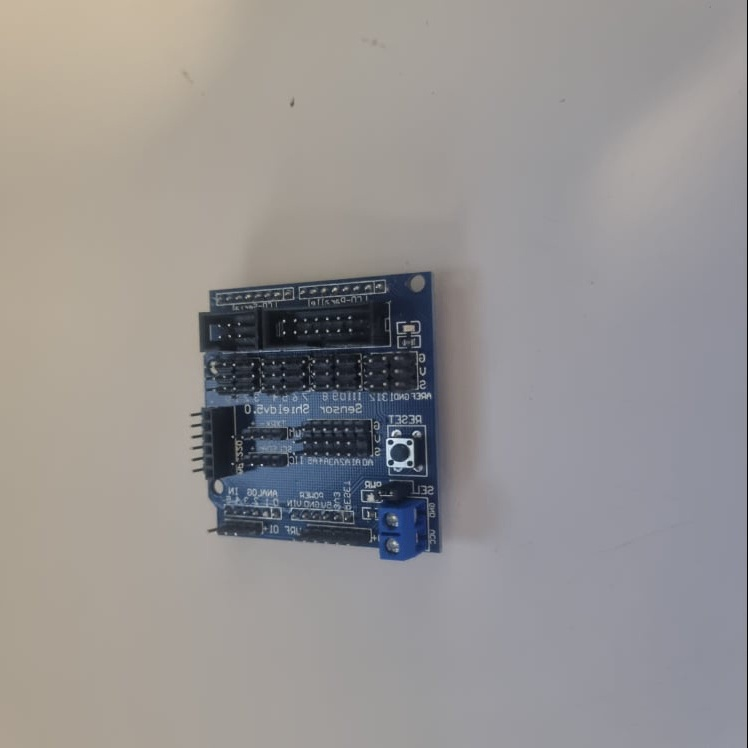5V EXPANSION: (186, 268, 441, 566)
